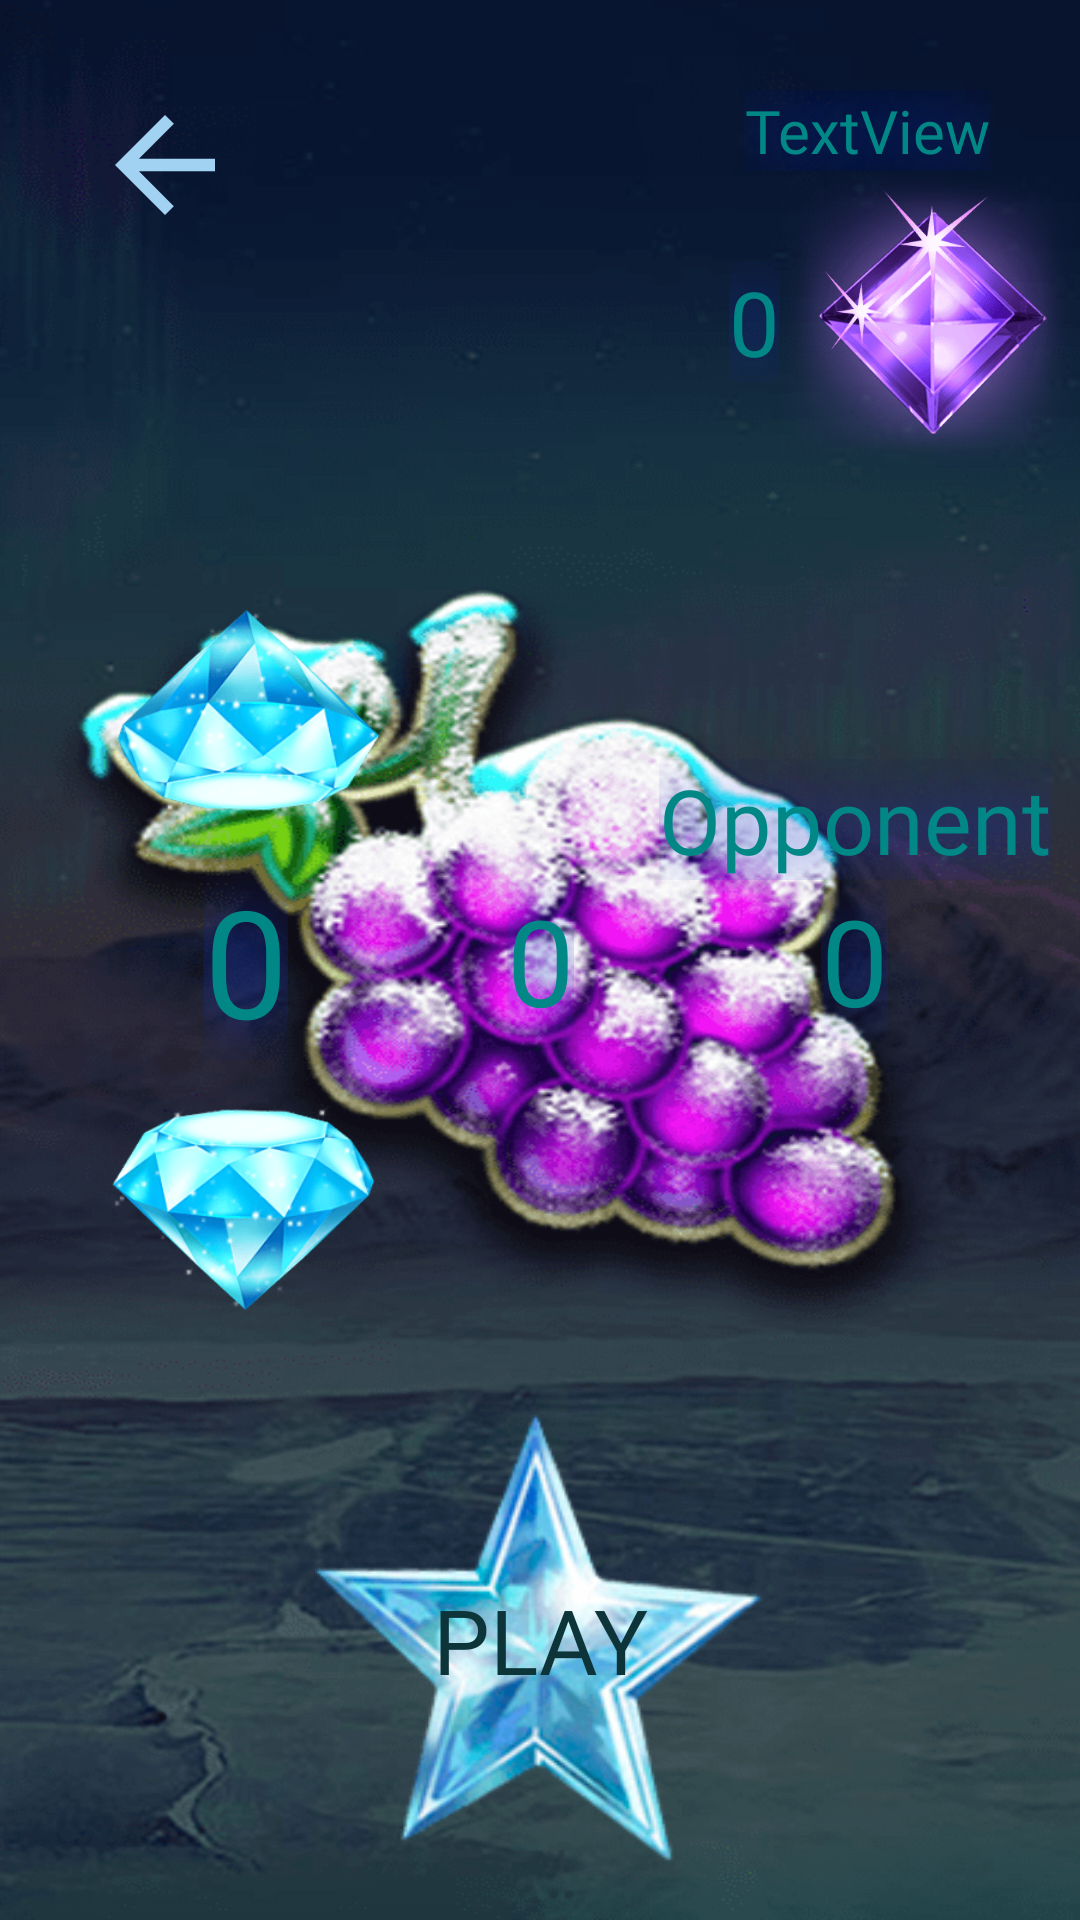

Icon click points for this 1080px×1920px phone screenshot, format point (x, y):
Back: point (165, 165)
